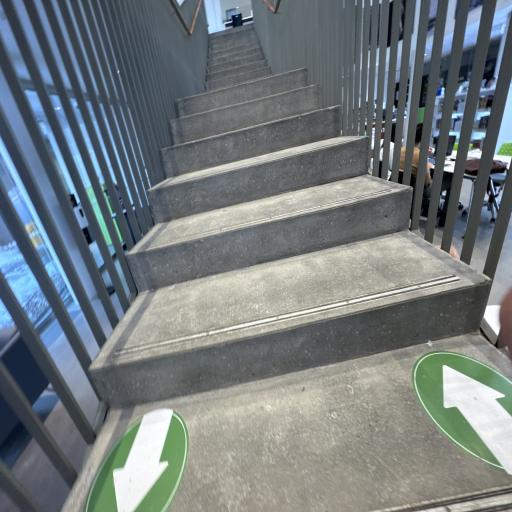Stairs: (63, 24, 512, 512), (62, 310, 512, 512), (89, 218, 491, 407), (128, 156, 412, 292), (147, 137, 369, 222)
